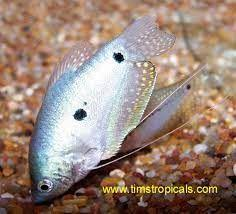Gourami: (28, 9, 177, 204)
